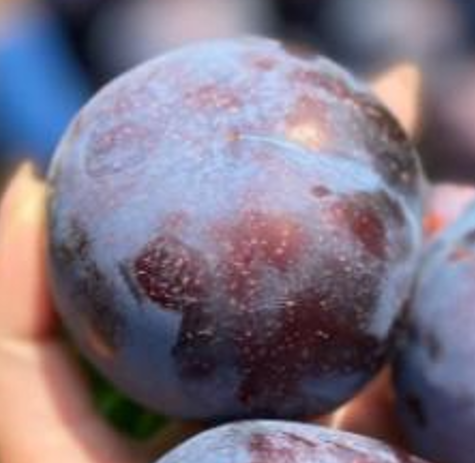plum_A: (47, 33, 426, 420)
